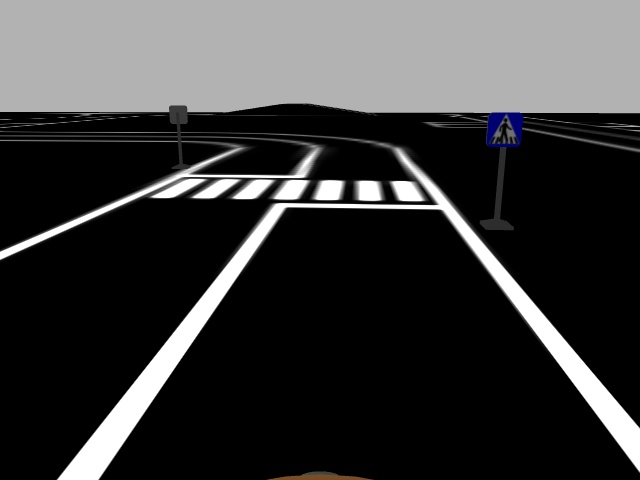crosswalk: (485, 109, 526, 148)
